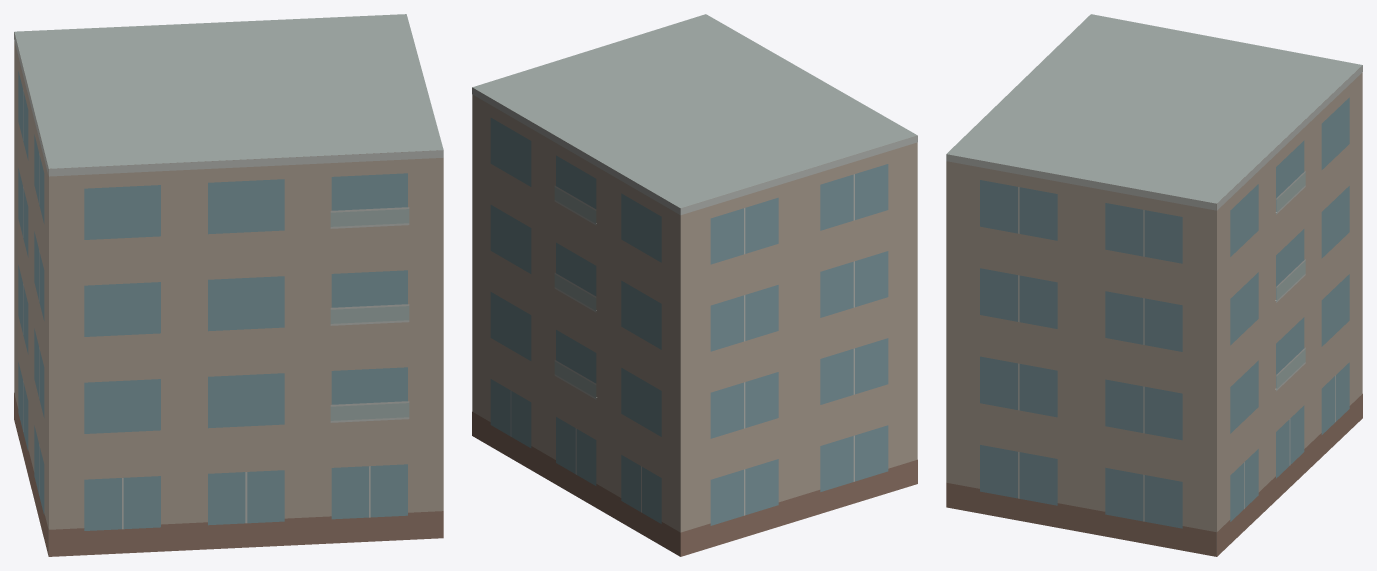
File: survey-upis-32536624.glb
The picture shows the model from 3 angles, left to right: view 1: azimuth 30°, elevation 25°; view 2: azimuth 150°, elevation 25°; view 3: azimuth 270°, elevation 25°; orthographic projection. The views are drawn at different scales.
Visible parts, largest first — view 1: survey-upis-32536624.tmp; view 2: survey-upis-32536624.tmp; view 3: survey-upis-32536624.tmp.
Boxes of the visible parts, box(x1,y1,x2,y2) form: survey-upis-32536624.tmp: box(14, 14, 443, 556); survey-upis-32536624.tmp: box(472, 14, 917, 556); survey-upis-32536624.tmp: box(946, 14, 1362, 556).
Bounding box in the file's own units: 14.18 × 12.3 × 13.16.
